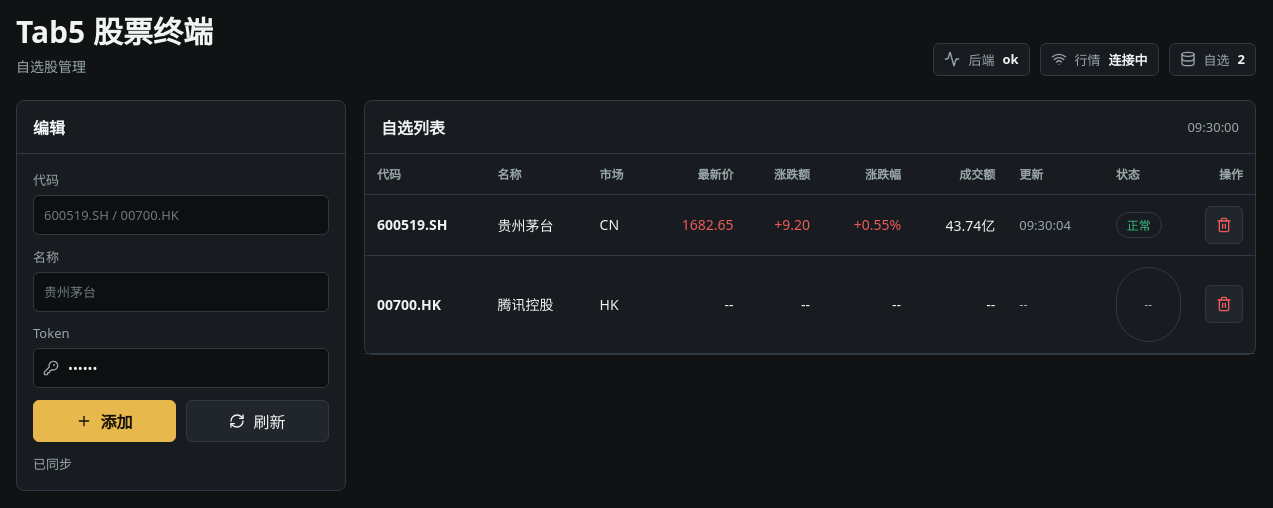
Test: App › removes deleted watch items and cached quotes
Check: the text "贵州茅台" is shown, box 486,194 -> 588,255
Check: the text "1682.65" is shown, box 649,194 -> 746,255
Click the button named "删除 600519.SH": [1224, 224] box 1205,206 -> 1243,244
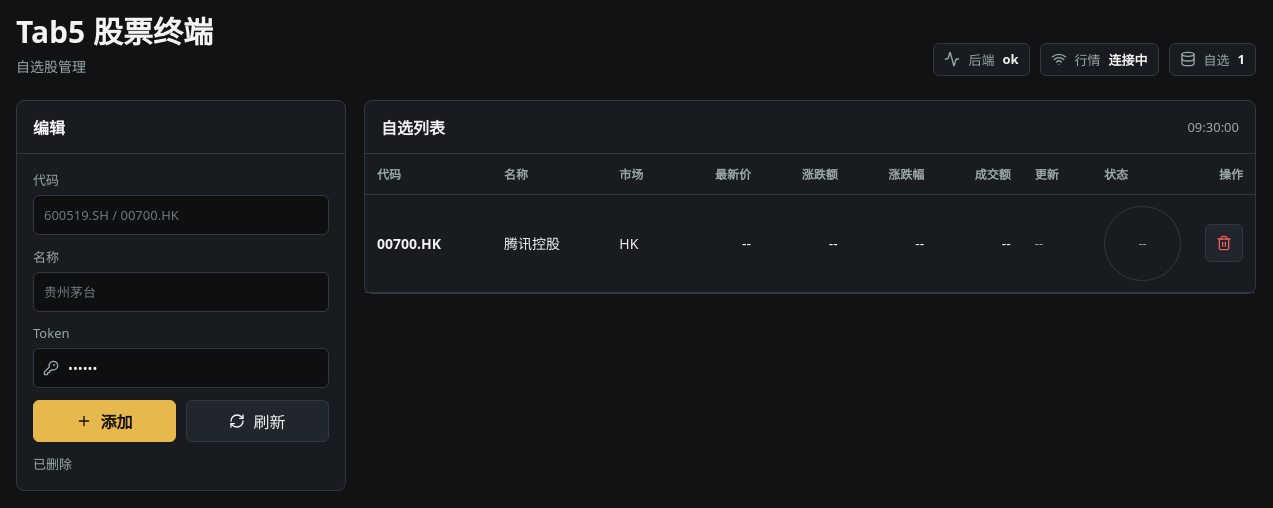
Check: the text "1682.65" is gone
